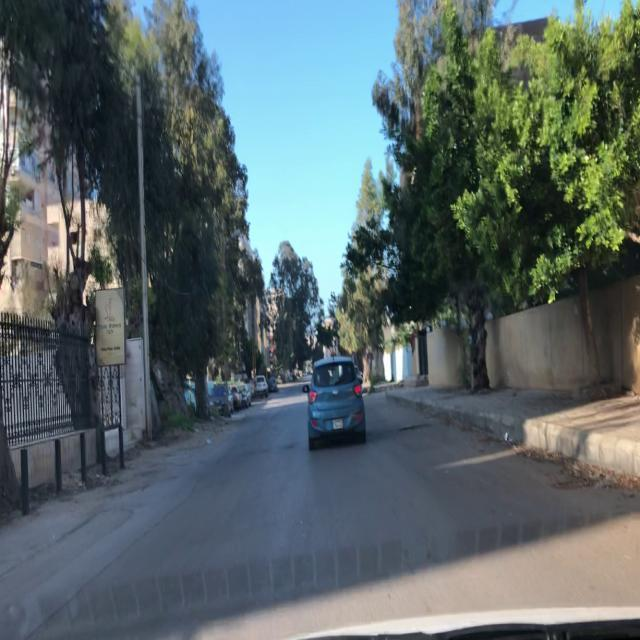pothole: (398, 422, 434, 434)
